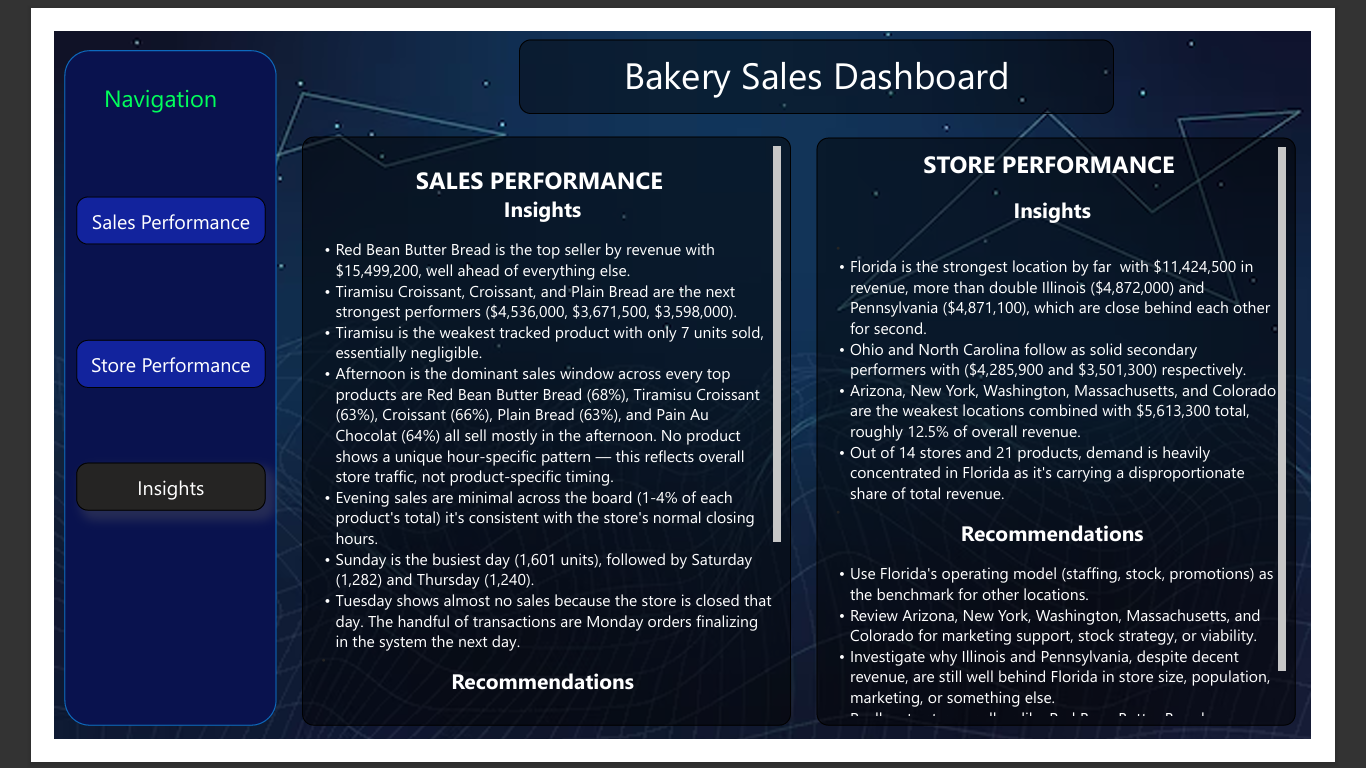

The dashboard page shown, as its layout file describes it:
{"tool":"powerbi","page":{"name":"Insights","canvas":[1280,720],"ordinal":2},"visuals":[{"type":"shape","box":[10.1,18.7,216,688.3],"z":0},{"type":"actionButton","box":[21.6,168.5,193,49],"z":1000},{"type":"actionButton","box":[21.6,313.9,193,49],"z":2000},{"type":"actionButton","box":[21.6,439.2,193,49],"z":3000},{"type":"textbox","box":[18.7,46.1,178.6,47.5],"z":4000},{"type":"textbox","box":[472.6,7.9,606.1,75.9],"z":5000},{"type":"textbox","box":[251.9,107.4,498.2,600.1],"z":7000},{"type":"textbox","box":[776.2,108,488.2,599],"z":8000}]}

Visuals, with their boxes in screenshot pixels (x1, y1, x2, y2), scaled from the page's 1280x720 canvas onto the 1366x768 screenshot:
shape: [x1=11, y1=20, x2=241, y2=754]
actionButton: [x1=23, y1=180, x2=229, y2=232]
actionButton: [x1=23, y1=335, x2=229, y2=387]
actionButton: [x1=23, y1=468, x2=229, y2=521]
textbox: [x1=20, y1=49, x2=211, y2=100]
textbox: [x1=504, y1=8, x2=1151, y2=89]
textbox: [x1=269, y1=115, x2=800, y2=755]
textbox: [x1=828, y1=115, x2=1349, y2=754]
